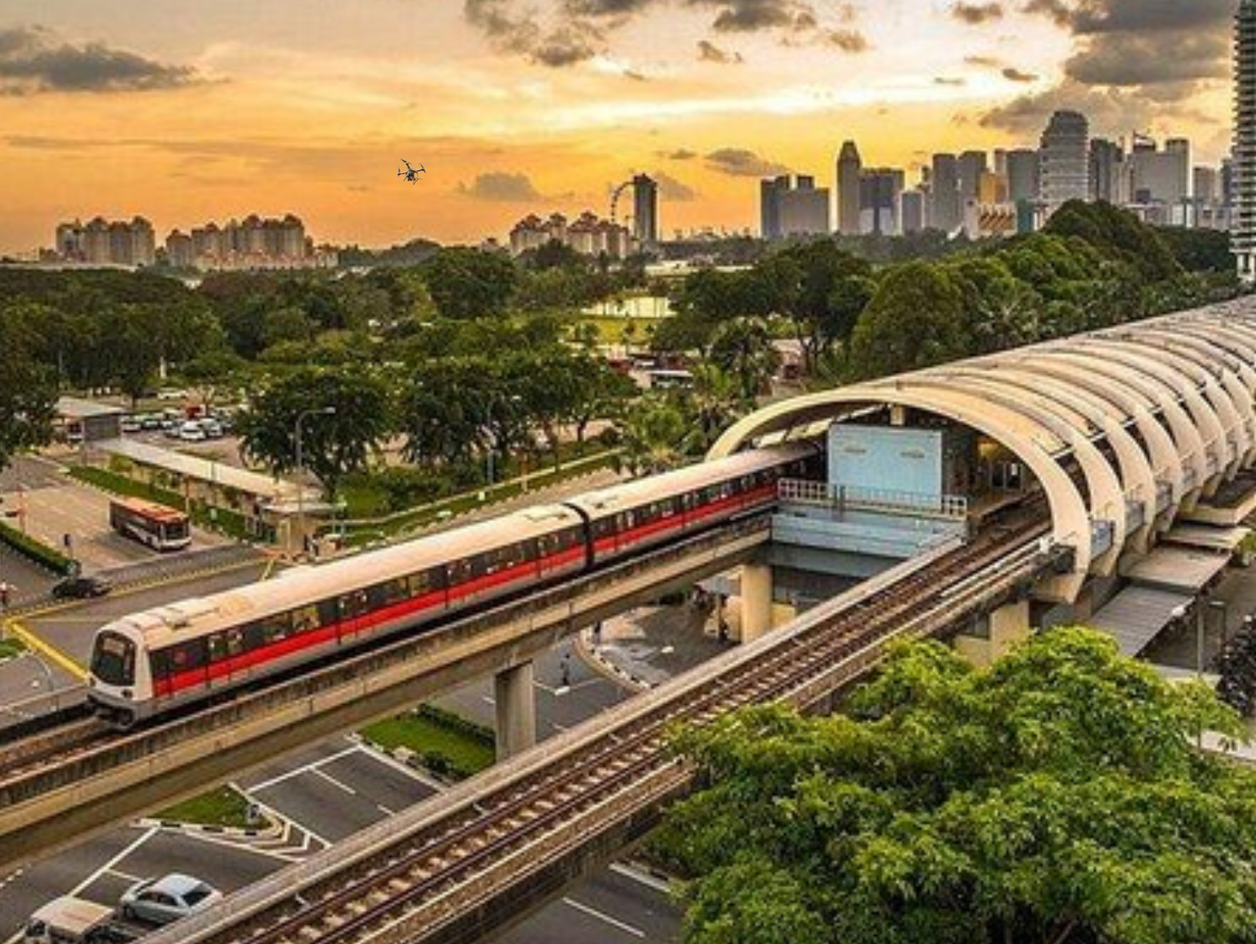drone_other: (395, 157, 427, 185)
